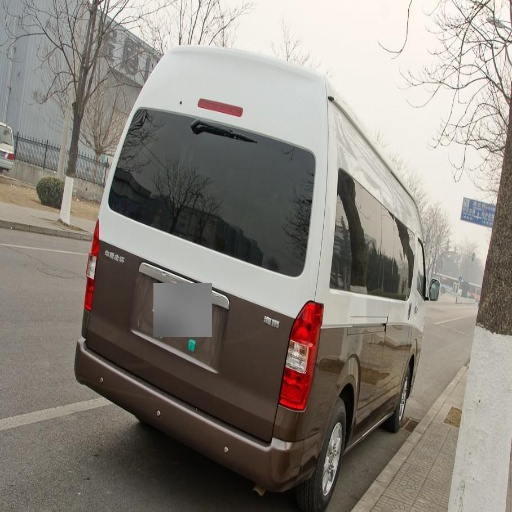back_bumper: (182, 405, 324, 485)
back_glass: (112, 154, 306, 266)
back_left_door: (375, 200, 408, 285)
back_right_door: (350, 300, 379, 384)
tailgate: (125, 108, 192, 166)
trunk: (90, 228, 308, 426), (161, 98, 257, 150)
